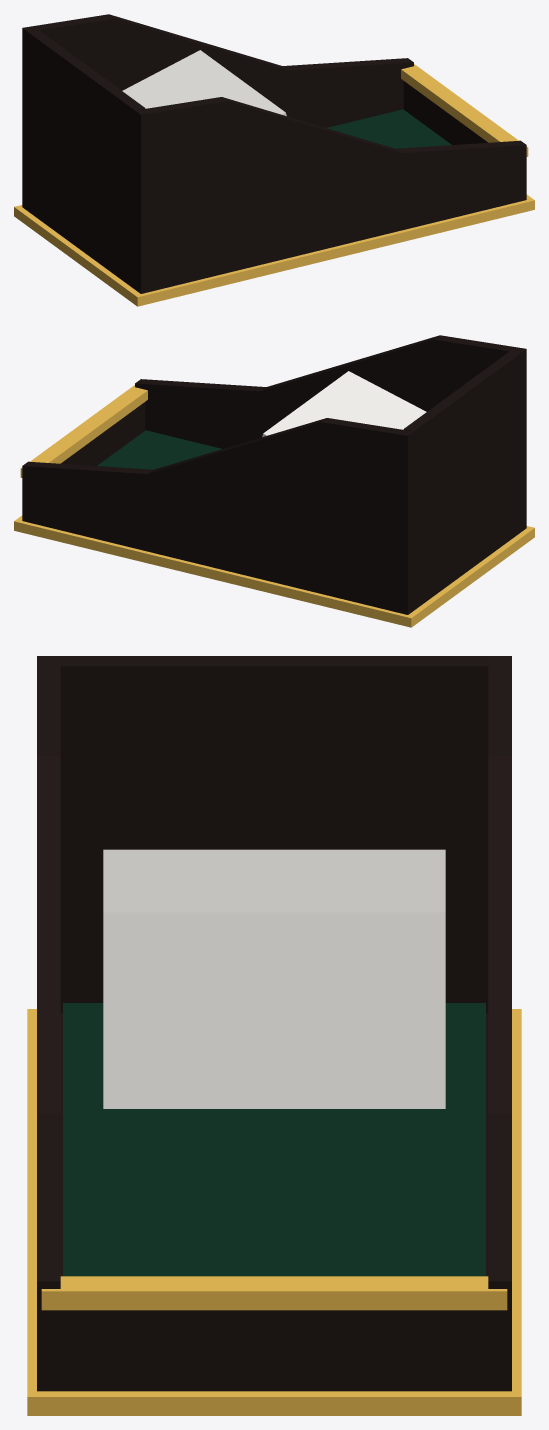
The model's file is shoe.glb.
The picture shows the model from 3 angles, top to bottom: view 1: azimuth 30°, elevation 25°; view 2: azimuth 150°, elevation 25°; view 3: azimuth 270°, elevation 25°; orthographic projection. The views are drawn at different scales.
Visible parts, largest first — view 1: Shoe; view 2: Shoe; view 3: Shoe.
Boxes of the visible parts, x1,y1,x2,y2 form: Shoe: (14,14,534,306); Shoe: (14,335,534,627); Shoe: (27,656,521,1415).
Bounding box in the file's own units: 0.309 × 0.1408 × 0.1664.
